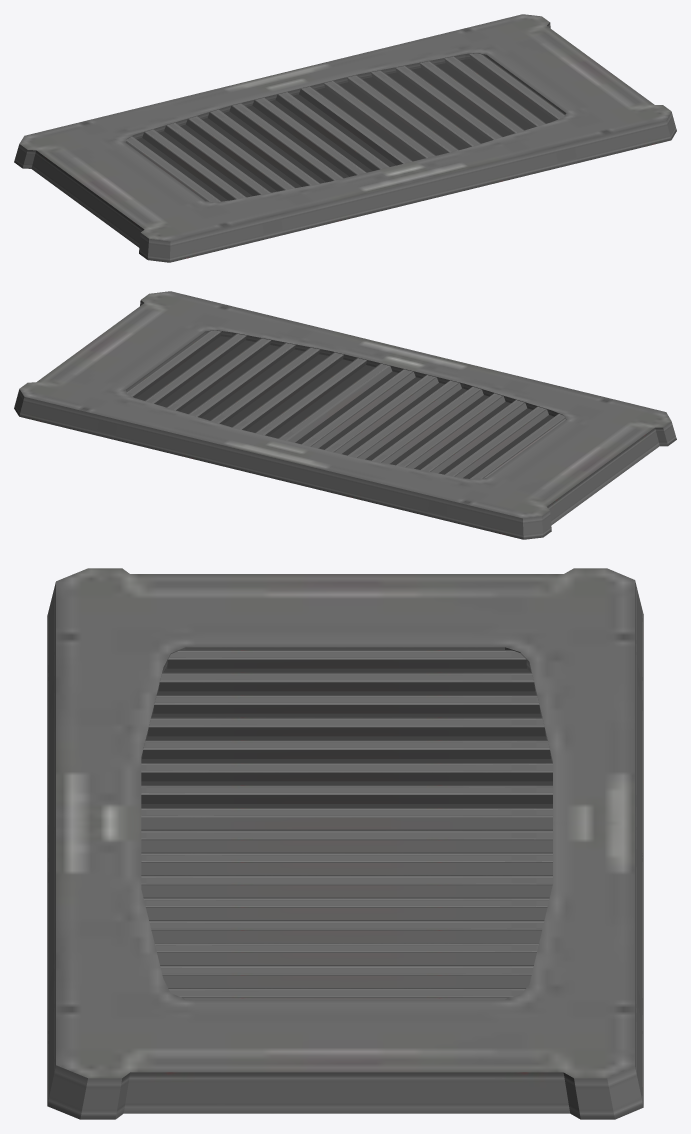
The model's file is Prop_Vent_Big.glb.
3 renders of one model, top to bottom at view 1: azimuth 30°, elevation 25°; view 2: azimuth 150°, elevation 25°; view 3: azimuth 270°, elevation 25°, orthographic. The views are drawn at different scales.
Parts seen in each view (by area): view 1: Prop_Vent_Big; view 2: Prop_Vent_Big; view 3: Prop_Vent_Big.
Boxes of the visible parts, bbox=[...] form: Prop_Vent_Big: bbox=[14, 14, 676, 262]; Prop_Vent_Big: bbox=[14, 291, 676, 539]; Prop_Vent_Big: bbox=[47, 568, 643, 1119].
Bounding box in the file's own units: 2 × 0.0689 × 0.9763.
Materials: 2 (2 with a texture image).
